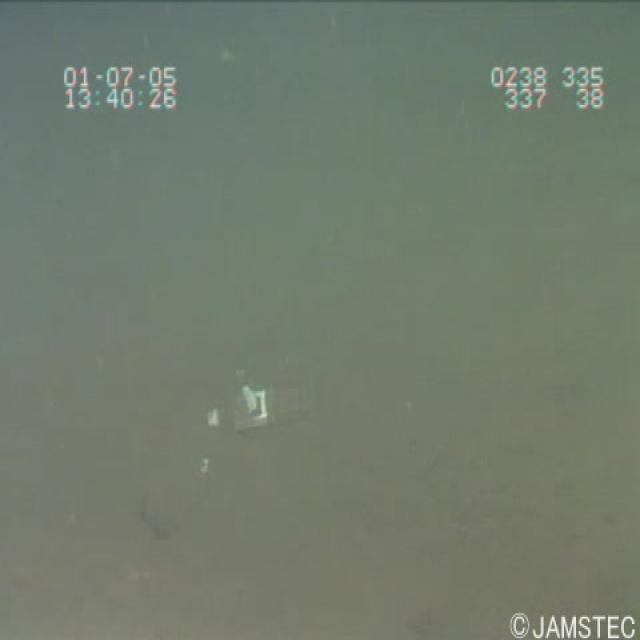plastic: (196, 366, 317, 455)
